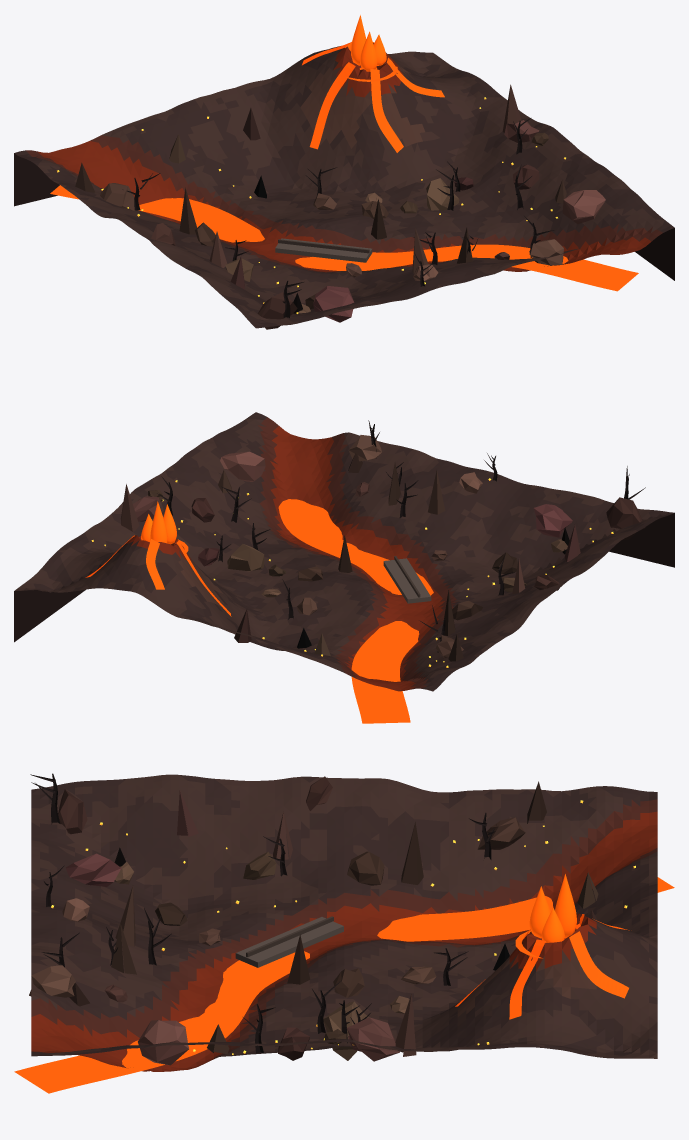
The model's file is loc_fire_valley.glb.
3 renders of one model, top to bottom at view 1: azimuth 30°, elevation 25°; view 2: azimuth 150°, elevation 25°; view 3: azimuth 270°, elevation 25°, orthographic. The views are drawn at different scales.
Parts seen in each view (by area): view 1: Terrain, Props_Env, LavaRiver, Props_LavaGlow; view 2: Terrain, Props_Env, LavaRiver, Props_LavaGlow; view 3: Terrain, Props_Env, LavaRiver, Props_LavaGlow, CraterFlame2, CraterFlame1, CraterFlame0.
Boxes of the visible parts, bbox=[...] form: Terrain: bbox=[14, 43, 674, 328]; Props_Env: bbox=[75, 84, 605, 329]; LavaRiver: bbox=[50, 185, 638, 291]; Props_LavaGlow: bbox=[302, 42, 444, 152]; Terrain: bbox=[14, 412, 674, 691]; Props_Env: bbox=[120, 420, 645, 661]; LavaRiver: bbox=[278, 499, 433, 723]; Props_LavaGlow: bbox=[85, 535, 231, 616]; Terrain: bbox=[31, 774, 657, 1071]; Props_Env: bbox=[29, 773, 598, 1065]; LavaRiver: bbox=[14, 877, 674, 1093]; Props_LavaGlow: bbox=[455, 914, 629, 1019]; CraterFlame2: bbox=[555, 874, 576, 938]; CraterFlame1: bbox=[529, 886, 550, 938]; CraterFlame0: bbox=[541, 907, 564, 942].
Size of the model in its own units: 36 by 11.98 by 38.
